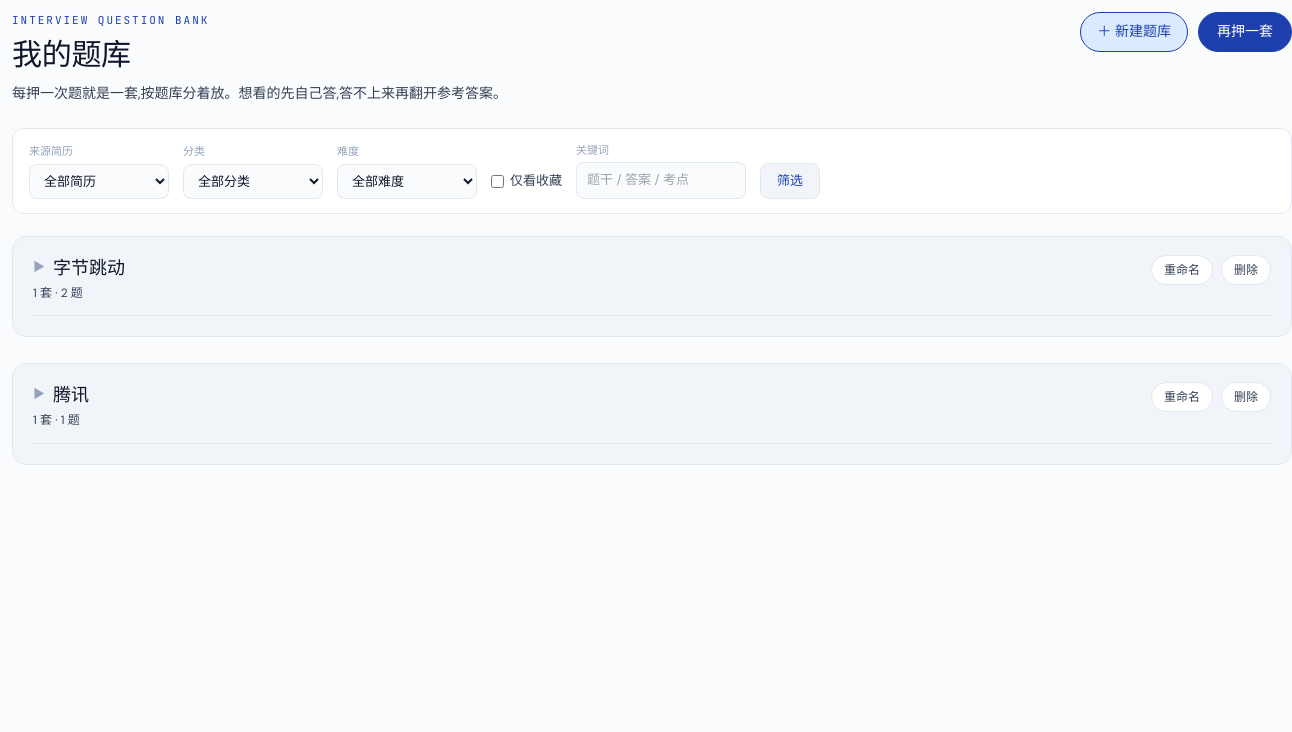
Scenario: QuestionBank · 套与题目 › 套头显示来源简历、生成时间、题数、生成引擎
Click the button "▶ 字节跳动". click: [79, 268]
box: [33,255,125,280]
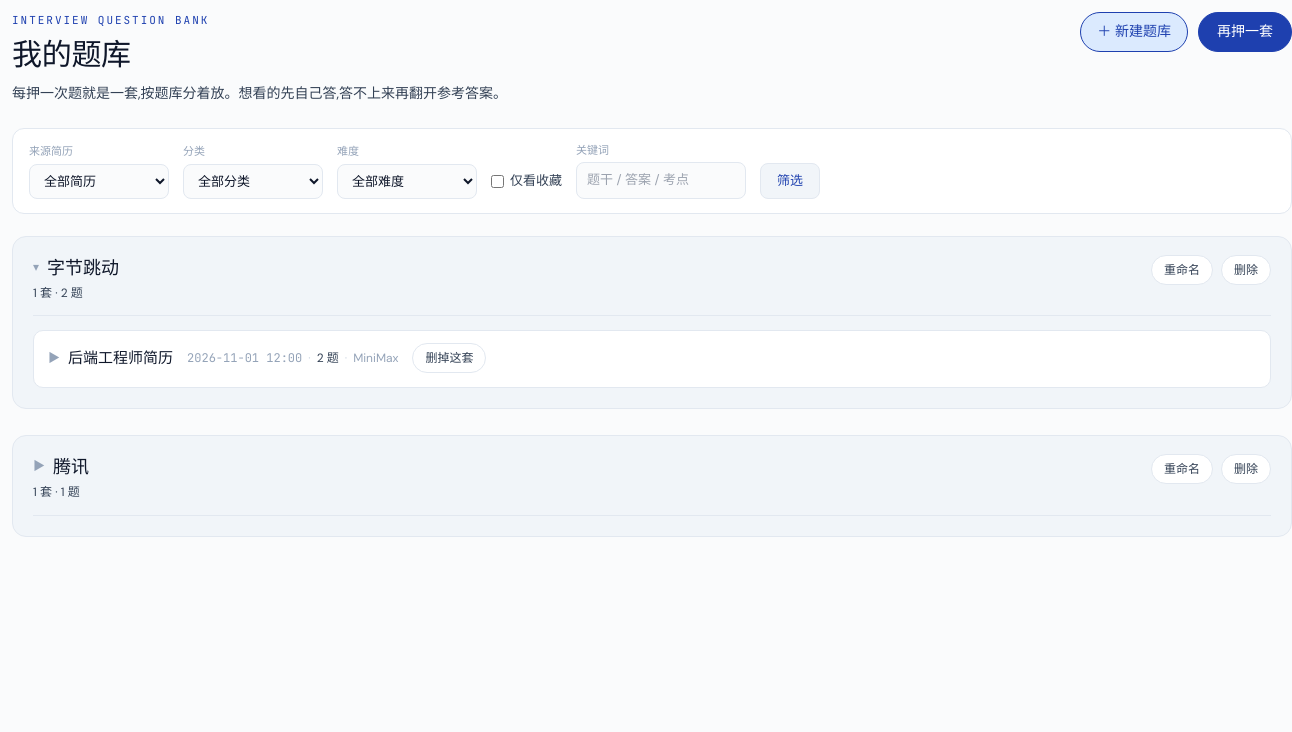
Expected: the element "后端工程师简历" is shown, [33,330,1271,388]
Expected: the heading "▶ 后端工程师简历" is shown, [48,347,173,370]
Expected: the text "2 题" is shown, [317,349,339,368]
